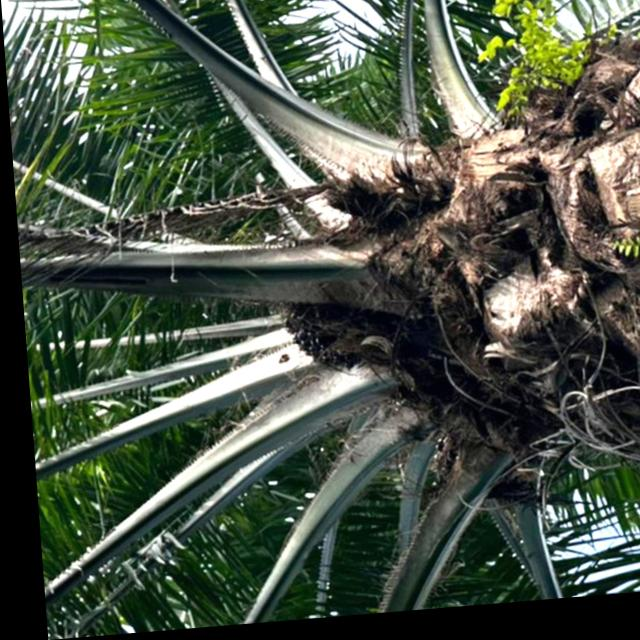almost: (267, 288, 370, 390)
